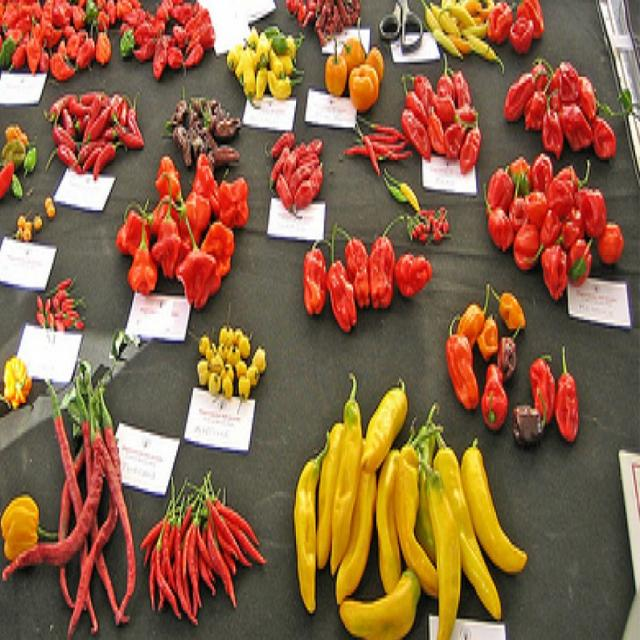chilli: (172, 524, 187, 620), (213, 553, 236, 612), (85, 104, 111, 144), (186, 519, 199, 598), (399, 175, 420, 214), (94, 141, 113, 184), (363, 129, 379, 180), (56, 145, 78, 174)
